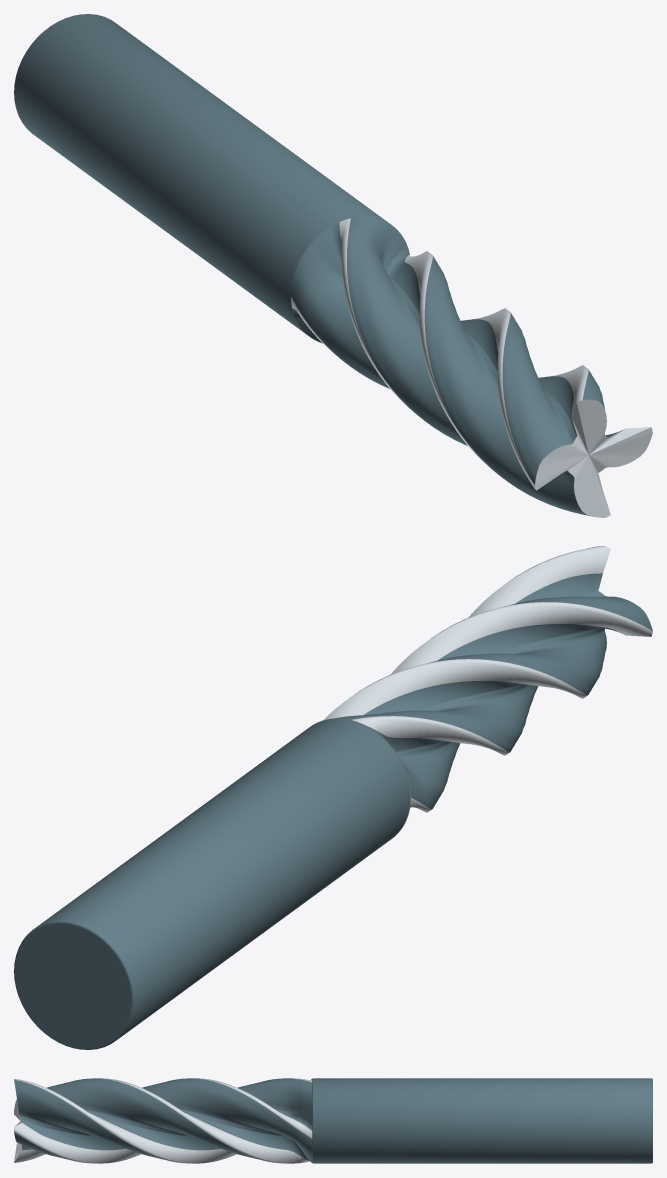
The model's file is solid-carbide-endmill.glb.
The picture shows the model from 3 angles, top to bottom: view 1: azimuth 30°, elevation 25°; view 2: azimuth 150°, elevation 25°; view 3: azimuth 270°, elevation 25°; orthographic projection. The views are drawn at different scales.
Parts seen in each view (by area): view 1: EndMill_Solid_Carbide_Shank, EndMill_4_Flutes_End_Gashes; view 2: EndMill_Solid_Carbide_Shank, EndMill_4_Flutes_End_Gashes; view 3: EndMill_Solid_Carbide_Shank, EndMill_4_Flutes_End_Gashes.
Part boxes in pixels (x1,y1,x2,y2): EndMill_Solid_Carbide_Shank: (14,14,388,334); EndMill_4_Flutes_End_Gashes: (291,216,652,517); EndMill_Solid_Carbide_Shank: (14,719,410,1049); EndMill_4_Flutes_End_Gashes: (313,546,652,836); EndMill_Solid_Carbide_Shank: (312,1078,652,1163); EndMill_4_Flutes_End_Gashes: (14,1078,312,1163).
Bounding box in the file's own units: 0.006 × 0.006 × 0.045.
